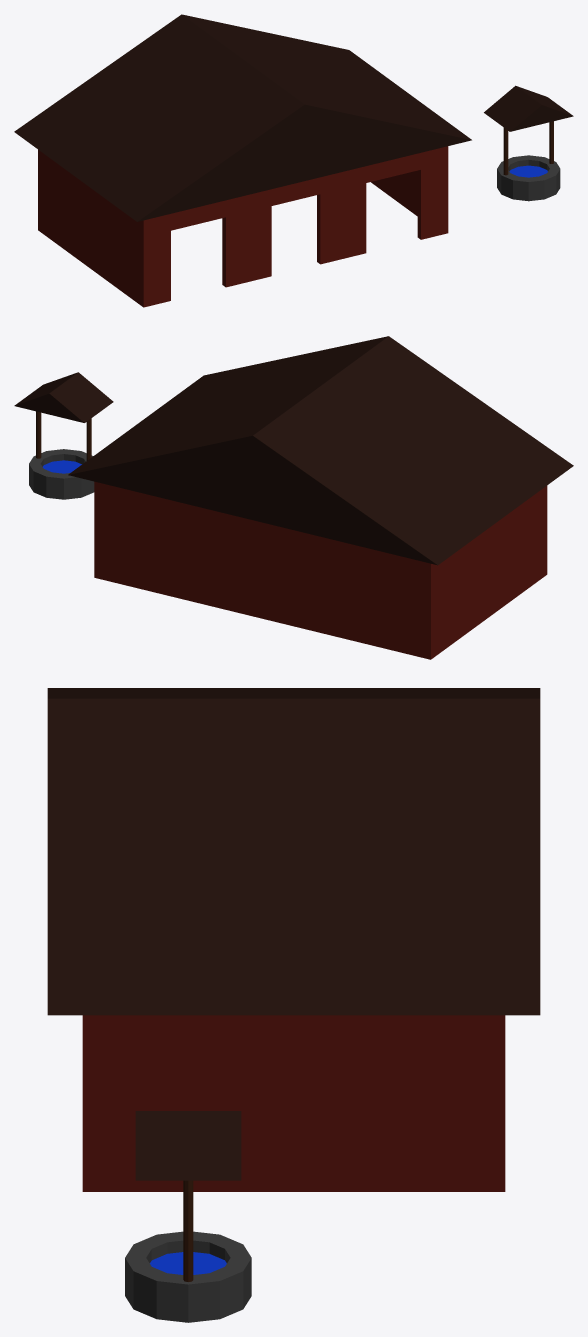
Rendered from ranchonuevo.obj.
The picture shows the model from 3 angles, top to bottom: view 1: azimuth 30°, elevation 25°; view 2: azimuth 150°, elevation 25°; view 3: azimuth 270°, elevation 25°; orthographic projection. The views are drawn at different scales.
Visible parts, largest first — view 1: Techo, Pared_Izquierda, Pared_Frente_3, Pared_Frente_2, Pared_Frente_4, Pared_Frente_1, Pozo_Techo, Pozo_Base_Piedra, Pared_Derecha, Pared_Dintel_1, Pared_Dintel_3, Pared_Dintel_2; view 2: Techo, Pared_Trasera, Pared_Izquierda, Pozo_Techo, Pozo_Base_Piedra, Pared_Frente_1; view 3: Techo, Pared_Derecha, Pozo_Base_Piedra, Pozo_Techo, Pared_Trasera, Pared_Frente_4, Pozo_Agua, Pozo_Poste_2.
Part boxes in pixels (x1=…): Techo: x1=14, y1=14, x2=471, y2=221; Pared_Izquierda: x1=39, y1=151, x2=141, y2=305; Pared_Frente_3: x1=317, y1=166, x2=366, y2=264; Pared_Frente_2: x1=222, y1=189, x2=271, y2=287; Pared_Frente_4: x1=417, y1=146, x2=448, y2=239; Pared_Frente_1: x1=140, y1=214, x2=170, y2=307; Pozo_Techo: x1=484, y1=85, x2=573, y2=131; Pozo_Base_Piedra: x1=497, y1=155, x2=560, y2=201; Pared_Derecha: x1=371, y1=170, x2=417, y2=216; Pared_Dintel_1: x1=171, y1=200, x2=225, y2=230; Pared_Dintel_3: x1=366, y1=153, x2=420, y2=182; Pared_Dintel_2: x1=271, y1=177, x2=320, y2=205; Techo: x1=68, y1=336, x2=573, y2=565; Pared_Trasera: x1=94, y1=481, x2=433, y2=659; Pared_Izquierda: x1=432, y1=488, x2=543, y2=657; Pozo_Techo: x1=14, y1=372, x2=113, y2=422; Pozo_Base_Piedra: x1=29, y1=449, x2=94, y2=499; Pared_Frente_1: x1=543, y1=485, x2=547, y2=576; Techo: x1=47, y1=688, x2=540, y2=1015; Pared_Derecha: x1=90, y1=1015, x2=497, y2=1191; Pozo_Base_Piedra: x1=125, y1=1231, x2=251, y2=1322; Pozo_Techo: x1=135, y1=1111, x2=241, y2=1180; Pared_Trasera: x1=491, y1=1015, x2=505, y2=1191; Pared_Frente_4: x1=82, y1=1015, x2=96, y2=1191; Pozo_Agua: x1=150, y1=1252, x2=226, y2=1274; Pozo_Poste_2: x1=183, y1=1180, x2=193, y2=1281.
Size of the model in its own units: 2.92 by 1.05 by 1.36.
